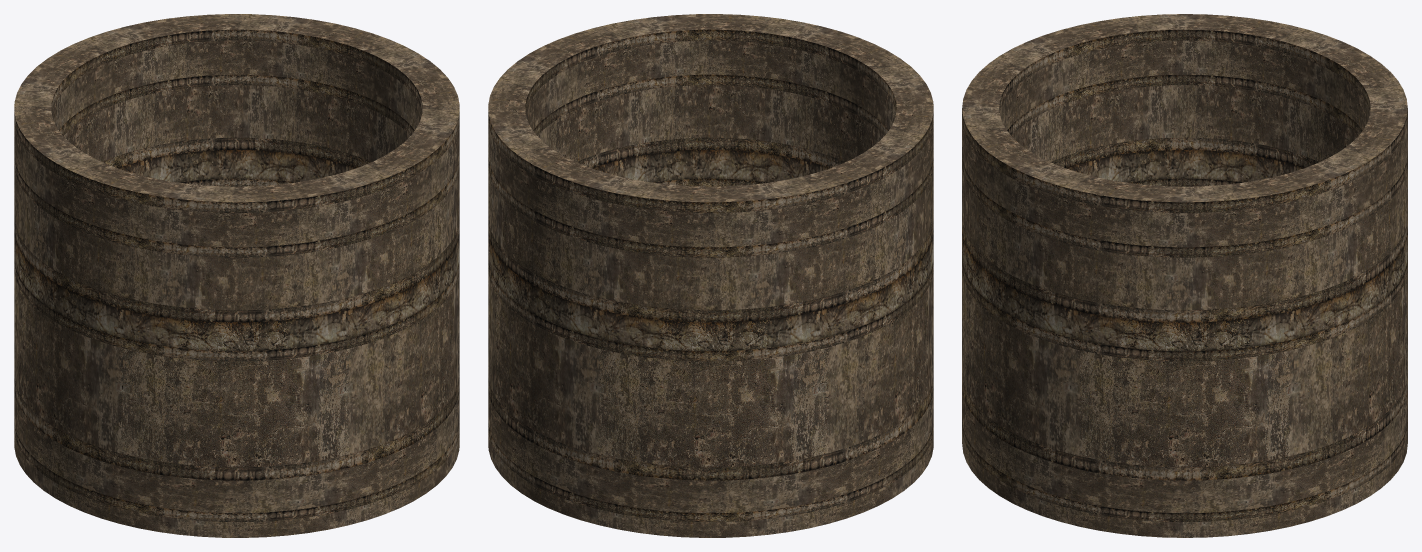
Rendered from materials_5_wall_cylinder_12.fbx.
The picture shows the model from 3 angles, left to right: view 1: azimuth 30°, elevation 25°; view 2: azimuth 150°, elevation 25°; view 3: azimuth 270°, elevation 25°; orthographic projection.
Parts seen in each view (by area): view 1: materials_5_wall_cylinder_12; view 2: materials_5_wall_cylinder_12; view 3: materials_5_wall_cylinder_12.
Part boxes in pixels (x1,y1,x2,y2): materials_5_wall_cylinder_12: (14,14,459,537); materials_5_wall_cylinder_12: (488,14,933,537); materials_5_wall_cylinder_12: (962,14,1407,537).
Size of the model in its own units: 288 by 240 by 288.
